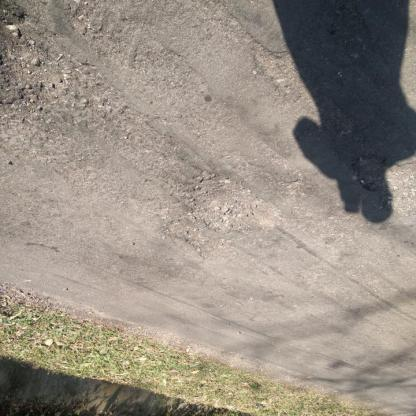pothole: (186, 171, 284, 235), (1, 28, 72, 100), (162, 222, 231, 263)
